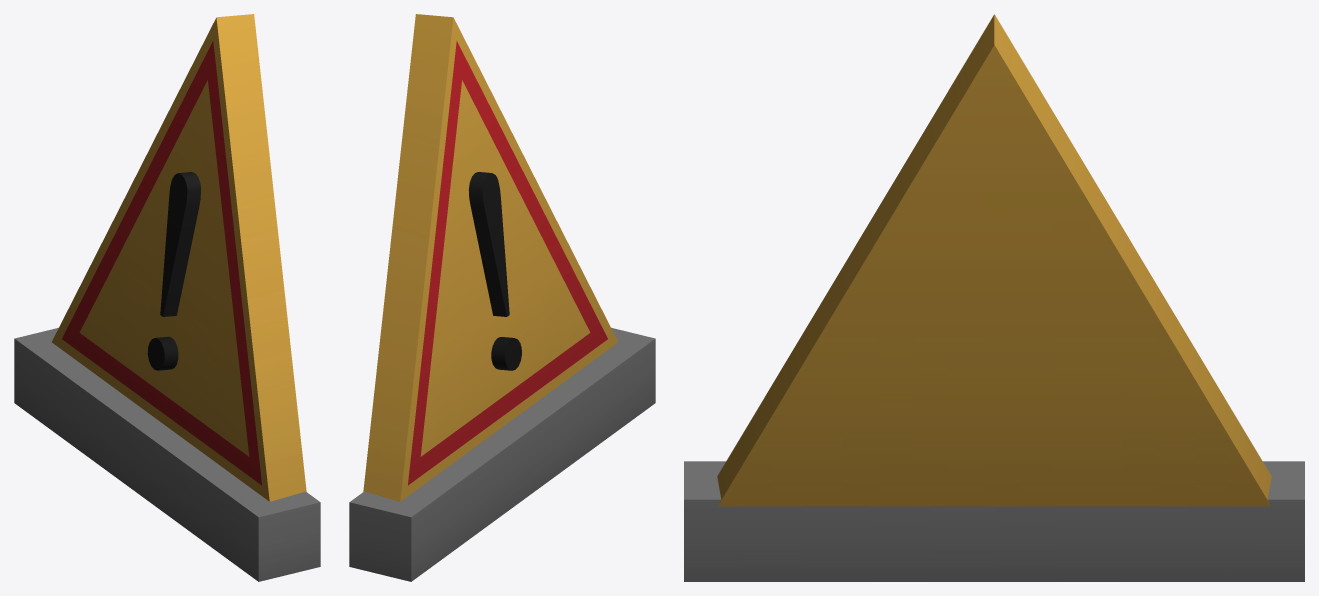
Rendered from danger.fbx.
3 views of the same model, side by side, from view 1: azimuth 30°, elevation 25°; view 2: azimuth 150°, elevation 25°; view 3: azimuth 270°, elevation 25° (orthographic). The views are drawn at different scales.
Parts seen in each view (by area): view 1: danger; view 2: danger; view 3: danger.
Part boxes in pixels (x1,y1,x2,y2): danger: [14, 14, 320, 581]; danger: [349, 14, 655, 581]; danger: [684, 14, 1304, 581].
Bounding box in the file's own units: 26.55 × 98.39 × 95.55.
1 material, 1 textured.
